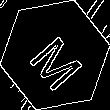M_NE: (22, 21, 88, 89)
